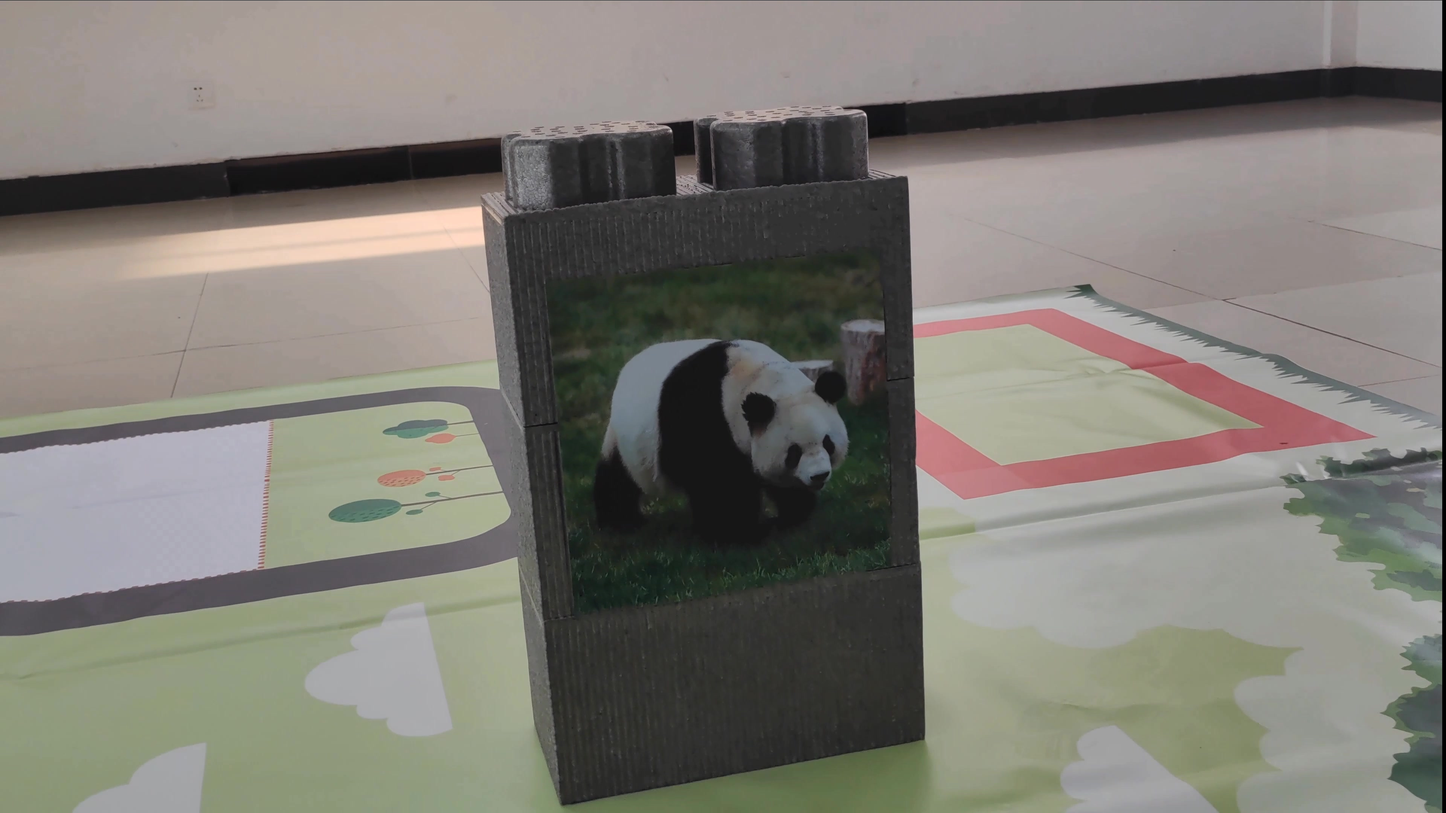panda: (577, 308, 873, 536)
